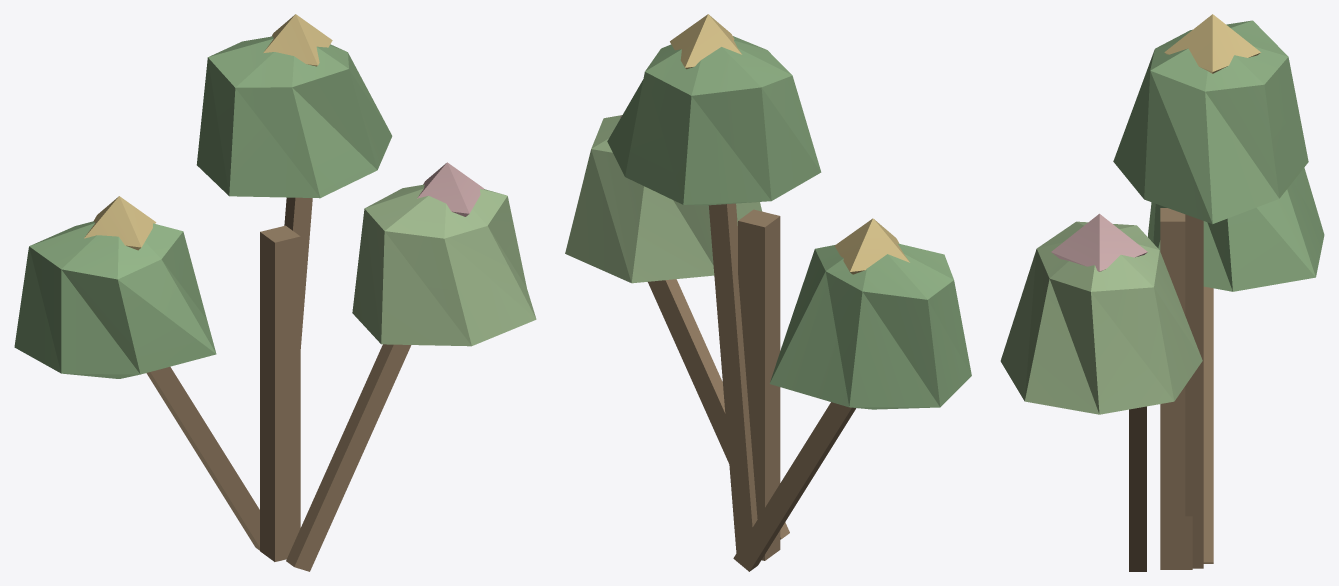
3 renders of one model, left to right at view 1: azimuth 30°, elevation 25°; view 2: azimuth 150°, elevation 25°; view 3: azimuth 270°, elevation 25°, orthographic. The views are drawn at different scales.
Visible parts, largest first — view 1: shrub_flower; view 2: shrub_flower; view 3: shrub_flower.
Boxes of the visible parts, bbox=[...] form: shrub_flower: bbox=[14, 14, 536, 571]; shrub_flower: bbox=[565, 14, 971, 571]; shrub_flower: bbox=[1000, 14, 1324, 571].
Size of the model in its own units: 1.34 by 1.56 by 0.8012.
